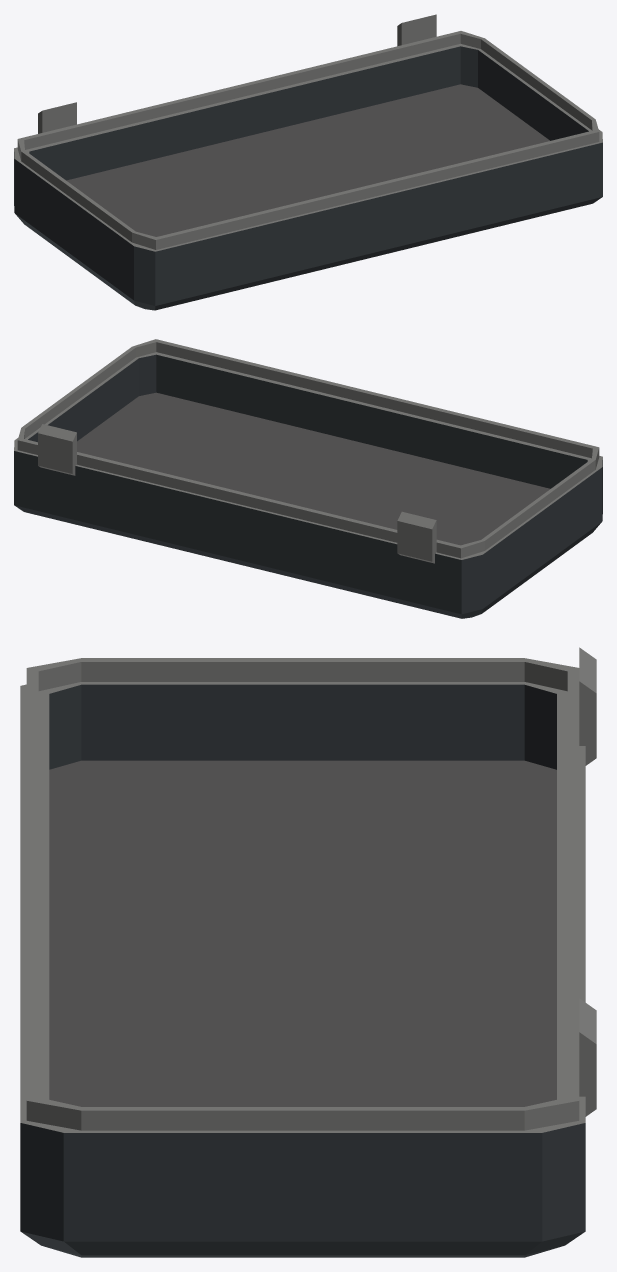
Rendered from SM_Prop_WeaponCase_01.fbx.
3 views of the same model, one above another, from view 1: azimuth 30°, elevation 25°; view 2: azimuth 150°, elevation 25°; view 3: azimuth 270°, elevation 25° (orthographic). The views are drawn at different scales.
Parts seen in each view (by area): view 1: SM_Prop_WeaponCase_01; view 2: SM_Prop_WeaponCase_01; view 3: SM_Prop_WeaponCase_01.
Part boxes in pixels (<box>): SM_Prop_WeaponCase_01: <box>14,14,602,310</box>; SM_Prop_WeaponCase_01: <box>14,339,602,618</box>; SM_Prop_WeaponCase_01: <box>20,647,596,1257</box>.
Bounding box in the file's own units: 72.68 × 15.14 × 38.73.
